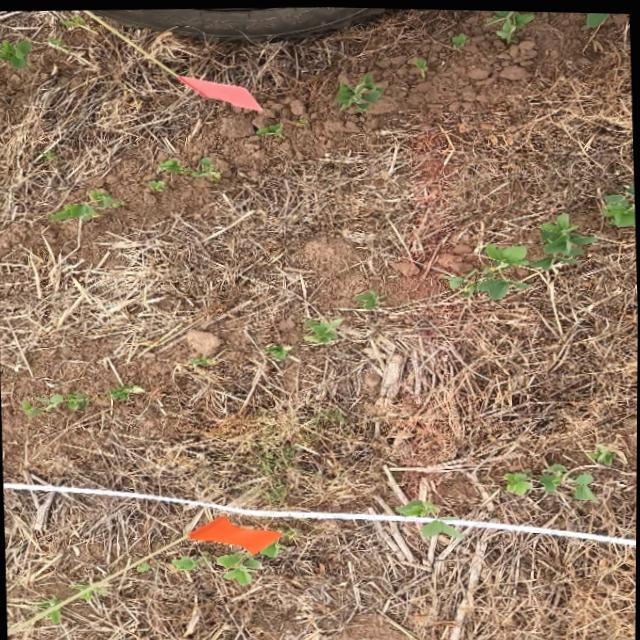grassy_weed: (227, 410, 328, 482)
soy_plant: (445, 210, 595, 296), (171, 539, 283, 583), (21, 384, 144, 418), (503, 460, 597, 497), (49, 189, 121, 218), (335, 72, 381, 108), (484, 9, 532, 41), (158, 156, 220, 177), (45, 36, 91, 64), (603, 184, 635, 223), (303, 317, 342, 343), (0, 38, 31, 68), (422, 517, 462, 536), (397, 498, 438, 514), (71, 582, 106, 600), (57, 13, 92, 30), (589, 442, 616, 463), (355, 288, 382, 307), (38, 599, 60, 622), (263, 343, 292, 359), (254, 121, 282, 136), (585, 10, 608, 24), (189, 354, 217, 365), (451, 30, 464, 45), (414, 58, 425, 75), (135, 559, 151, 570)
